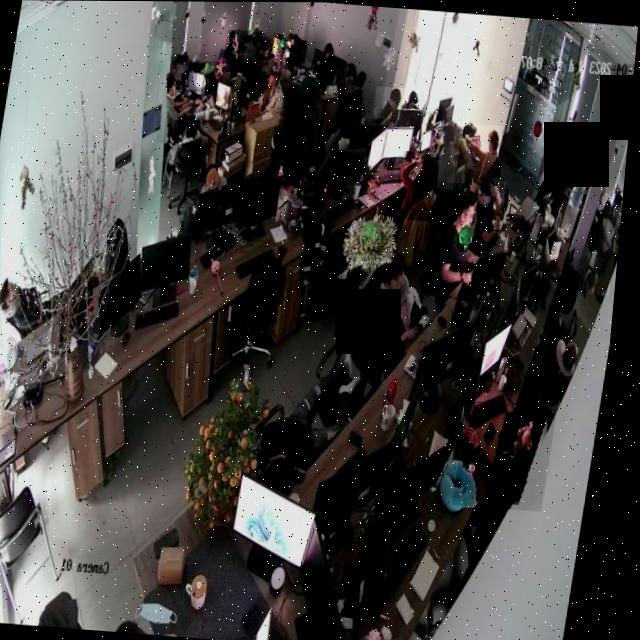person: (461, 406, 564, 510), (372, 251, 445, 353), (438, 190, 496, 299), (464, 174, 517, 258), (440, 121, 505, 185), (396, 149, 444, 221), (158, 71, 202, 144), (247, 63, 293, 128), (594, 204, 626, 294), (432, 120, 465, 189), (238, 29, 268, 81), (373, 85, 406, 119), (222, 28, 247, 71)
